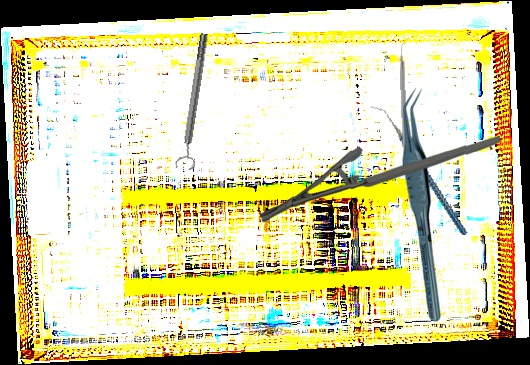Chopper: (370, 90, 468, 250), (398, 36, 416, 172)
Fixation Ring: (173, 32, 216, 171)
Needle Holder: (260, 131, 500, 228)
Tissue Forceps: (402, 88, 442, 322)
